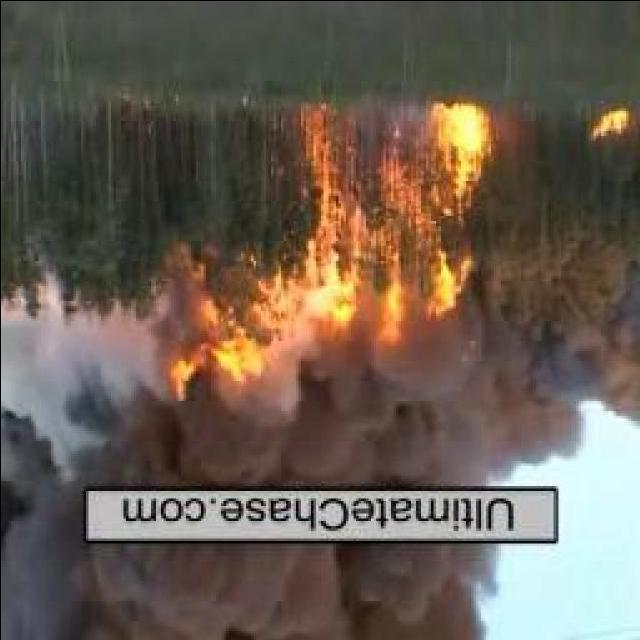Fire: (306, 89, 487, 332), (154, 266, 270, 390), (584, 104, 628, 153)
